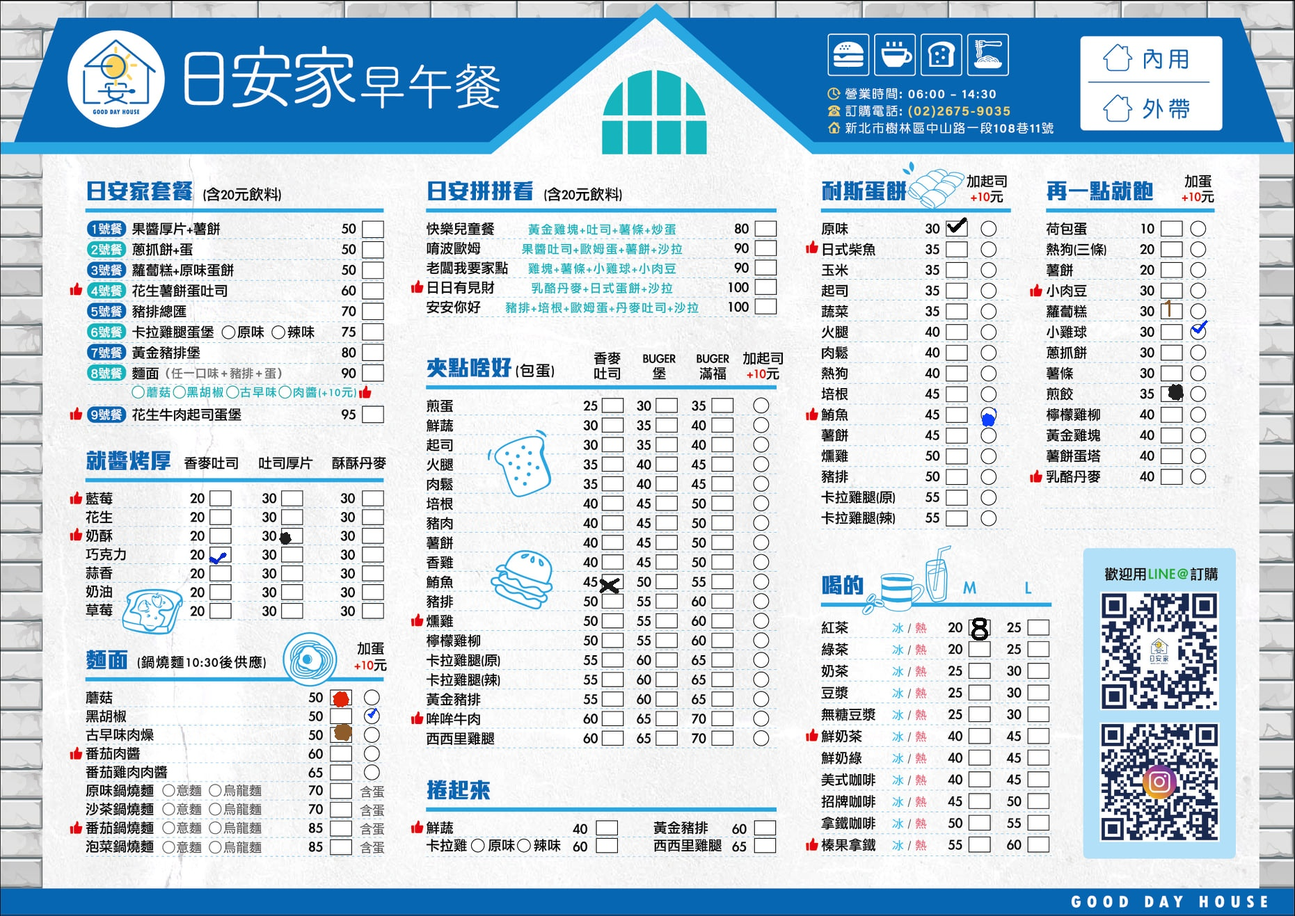marked_circle: (329, 690, 351, 706), (281, 527, 303, 543), (1161, 385, 1183, 401), (328, 726, 350, 742), (982, 408, 996, 423)
marked_number_1: (1161, 301, 1184, 317)
marked_number_8: (967, 618, 989, 634)
marked_tick: (207, 545, 230, 561), (945, 218, 967, 234), (365, 707, 379, 723), (1191, 324, 1205, 339)
marked_x: (601, 575, 623, 591)
